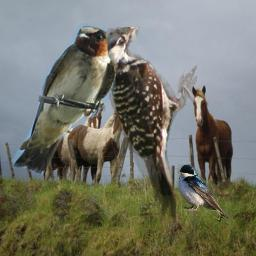Swallow: (10, 23, 116, 175), (177, 164, 231, 225)
Woodpecker: (97, 27, 197, 223)
